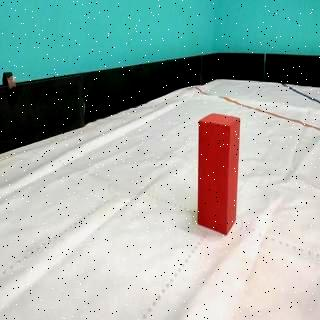redbox: (198, 113, 240, 235)
